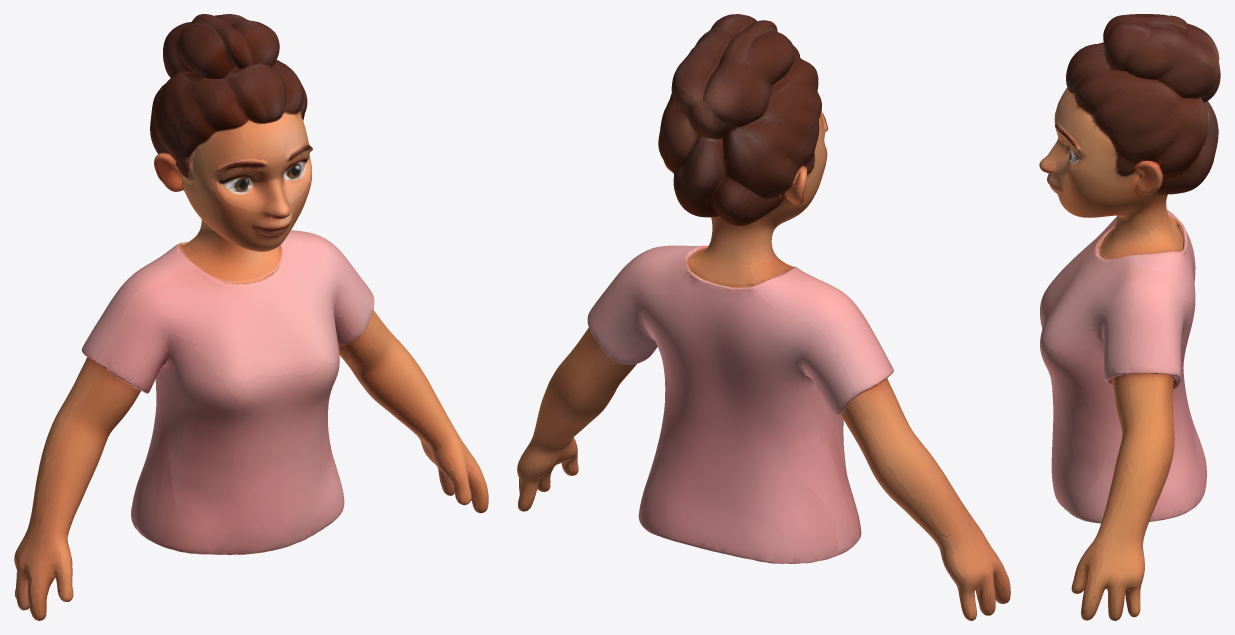
File: character_glb.glb
3 views of the same model, side by side, from view 1: azimuth 30°, elevation 25°; view 2: azimuth 150°, elevation 25°; view 3: azimuth 270°, elevation 25° (orthographic). The views are drawn at different scales.
Visible parts, largest first — view 1: geometry_0; view 2: geometry_0; view 3: geometry_0.
Boxes of the visible parts, bbox=[...] form: geometry_0: bbox=[14, 14, 488, 620]; geometry_0: bbox=[517, 14, 1010, 620]; geometry_0: bbox=[1039, 14, 1220, 620].
Size of the model in its own units: 0.6413 by 0.7 by 0.2313.
Materials: 1 (1 with a texture image).
